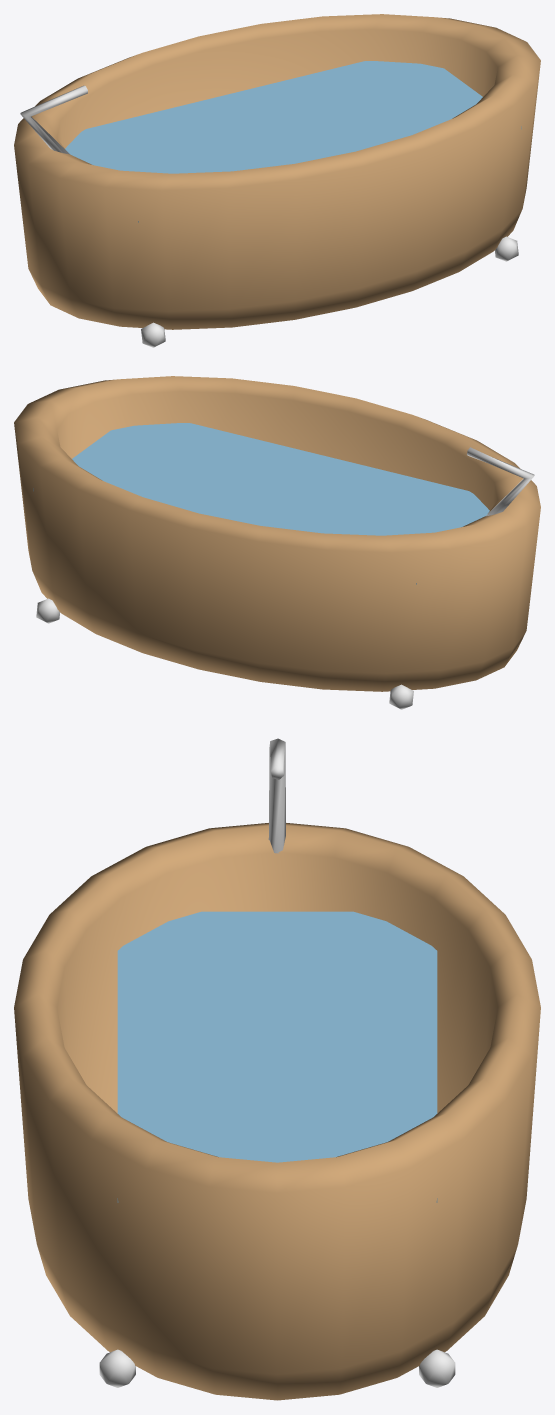
The model's file is palm_bathtub_v0.glb.
3 views of the same model, one above another, from view 1: azimuth 30°, elevation 25°; view 2: azimuth 150°, elevation 25°; view 3: azimuth 270°, elevation 25° (orthographic). The views are drawn at different scales.
Visible parts, largest first — view 1: palm_bathtub_v0; view 2: palm_bathtub_v0; view 3: palm_bathtub_v0.
Boxes of the visible parts, x1=… form: palm_bathtub_v0: x1=14, y1=14, x2=540, y2=347; palm_bathtub_v0: x1=14, y1=376, x2=540, y2=709; palm_bathtub_v0: x1=14, y1=738, x2=540, y2=1400.
Bounding box in the file's own units: 2.51 × 1.08 × 1.49.
